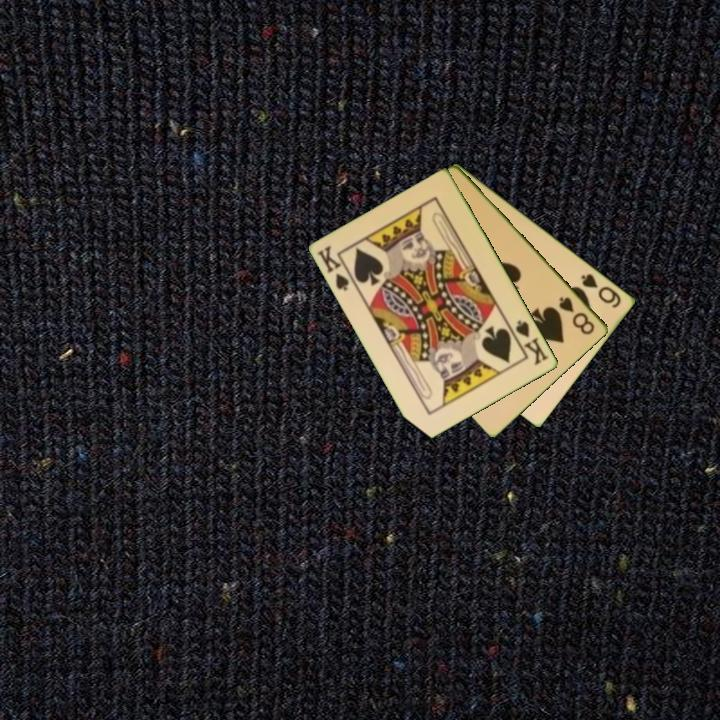6s: (578, 270, 625, 311)
8s: (556, 293, 598, 338)
Ks: (314, 242, 359, 294), (507, 317, 552, 368)
